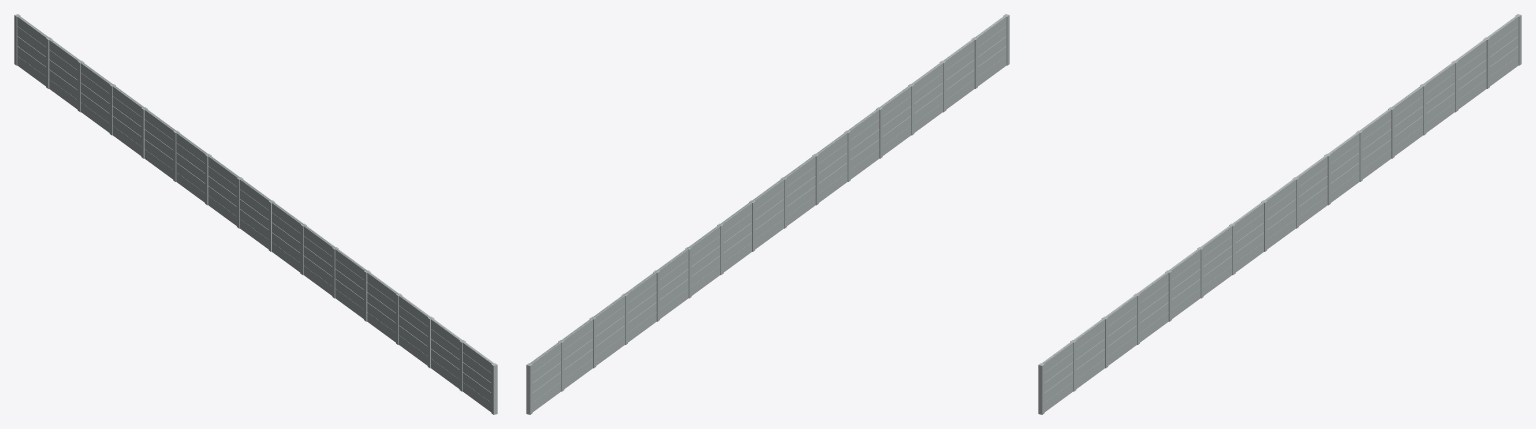
Rendered from TembokBeton_1.fbx.
3 views of the same model, side by side, from view 1: azimuth 30°, elevation 25°; view 2: azimuth 150°, elevation 25°; view 3: azimuth 330°, elevation 25° (orthographic).
Visible parts, largest first — view 1: TembokBeton_1; view 2: TembokBeton_1; view 3: TembokBeton_1.
Part boxes in pixels (box(x1,y1,x2,y2)): TembokBeton_1: box(14, 14, 497, 414); TembokBeton_1: box(526, 14, 1009, 414); TembokBeton_1: box(1038, 14, 1521, 414).
Bounding box in the file's own units: 18 × 205 × 3633.
